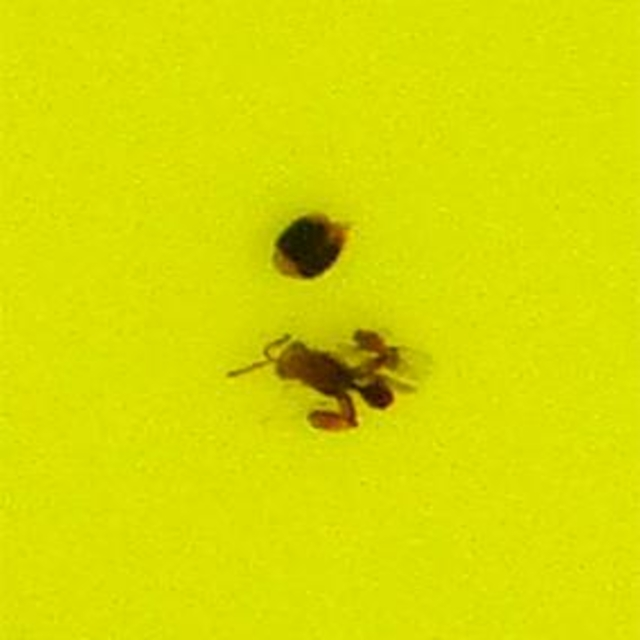Coleoptera: (266, 205, 354, 285)
Hymenoptera: (225, 322, 415, 435)
